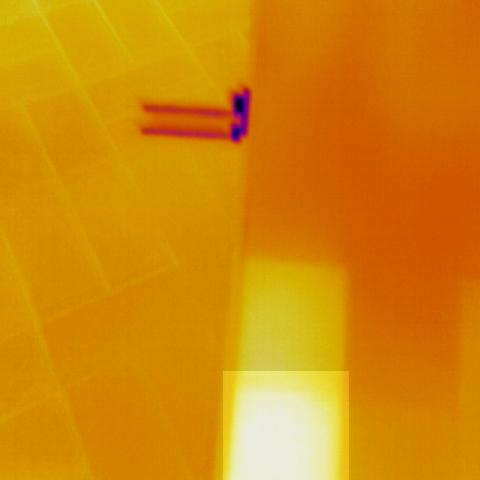fault: (223, 371, 349, 480)
